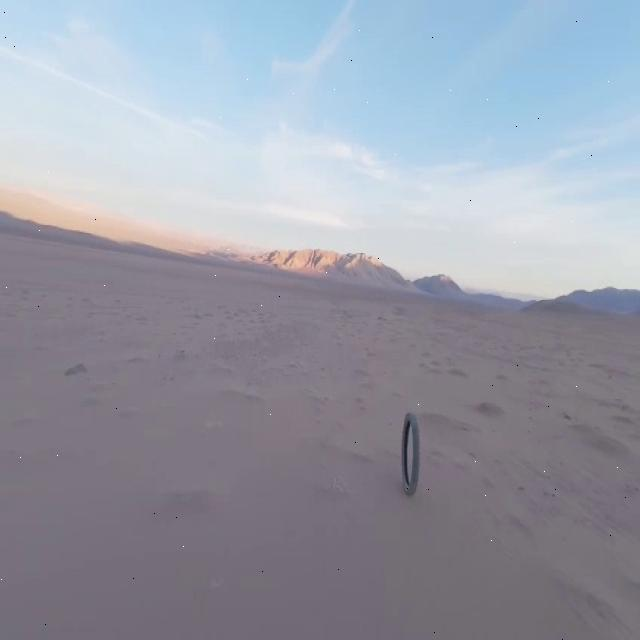Tire: (402, 412, 419, 495)
